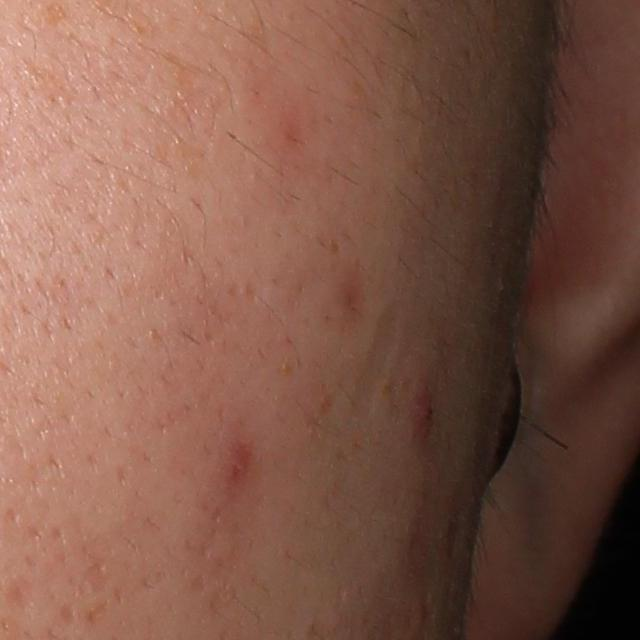atrophic_scar: (349, 302, 403, 433), (4, 576, 42, 616), (77, 561, 111, 598), (58, 600, 78, 628)
papule: (215, 443, 254, 493), (413, 381, 442, 437)
